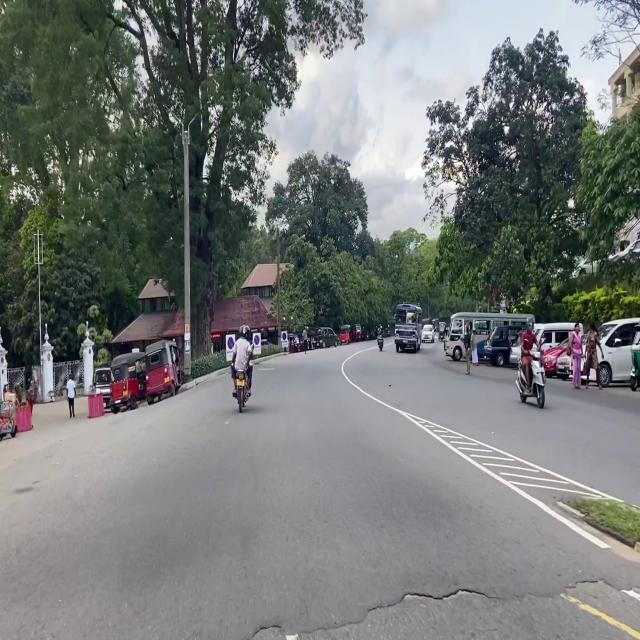bus: (444, 312, 534, 361), (395, 303, 421, 352)
car: (582, 318, 640, 388), (556, 334, 586, 380), (92, 366, 116, 411), (542, 340, 567, 376), (421, 324, 434, 343)
motorcycle: (516, 344, 545, 408), (630, 325, 640, 391), (234, 370, 249, 412), (377, 337, 383, 351)
person: (228, 325, 252, 396), (519, 320, 539, 391), (584, 322, 603, 389), (569, 322, 582, 389), (314, 328, 338, 348), (66, 374, 76, 418), (464, 324, 471, 375), (471, 329, 478, 364), (340, 326, 351, 344), (289, 334, 299, 353), (302, 328, 307, 353), (377, 325, 382, 337)
three wheeler: (144, 341, 181, 405), (110, 351, 146, 413), (630, 326, 640, 391), (307, 327, 316, 349), (353, 324, 361, 341), (439, 322, 445, 340)
van: (510, 322, 582, 363), (484, 325, 522, 367)
